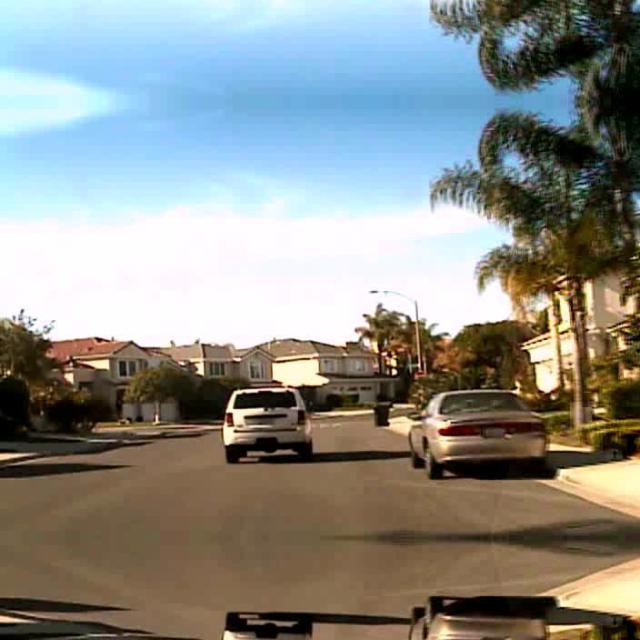stop: (414, 370, 426, 380)
